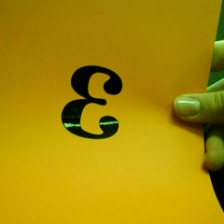orange3: (57, 61, 126, 143)
